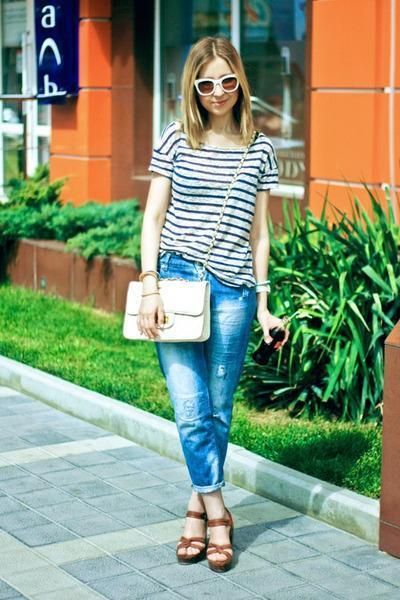bag: (123, 276, 209, 341)
pants: (154, 253, 268, 488)
shirt: (142, 134, 277, 299)
shoe: (176, 528, 204, 563)
sunglass: (192, 65, 213, 104)
